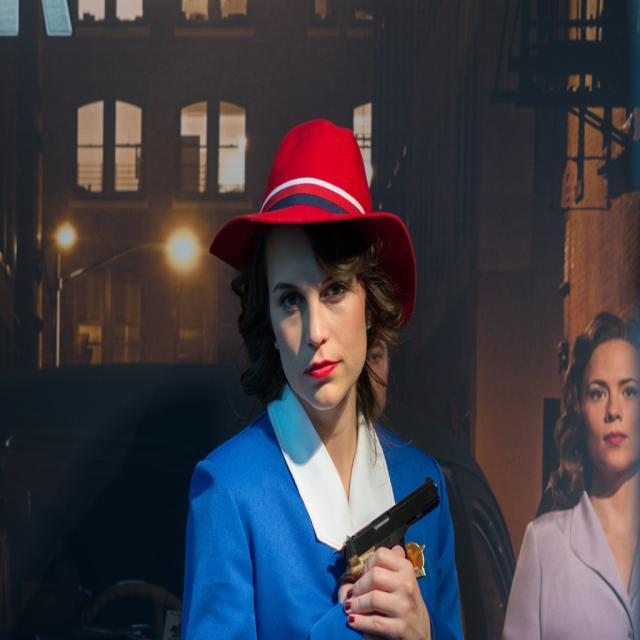Gun: (341, 479, 439, 582)
